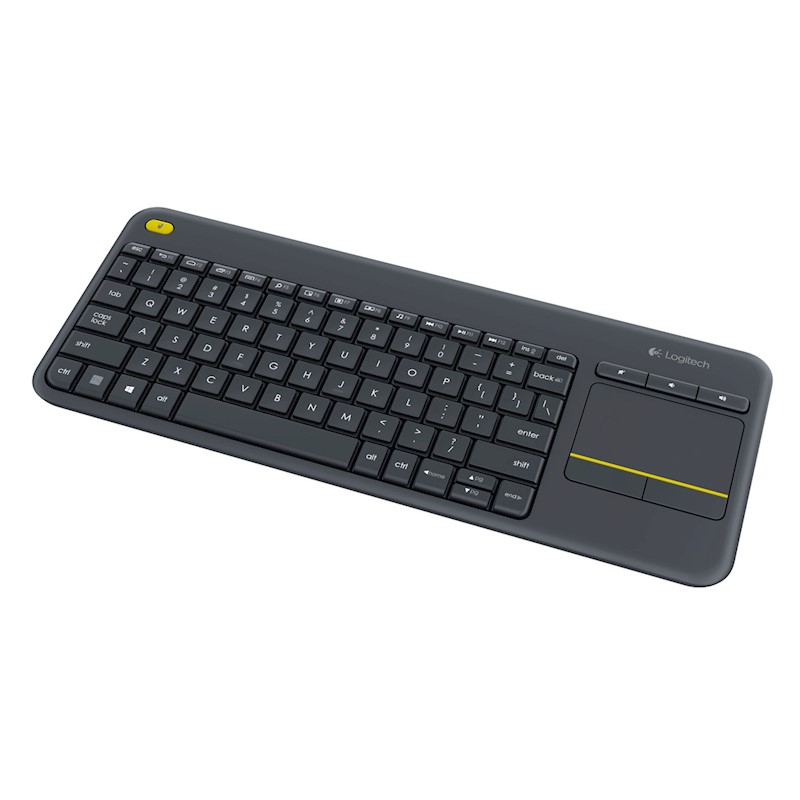logitech-keyboard-k400: (20, 207, 787, 592)
